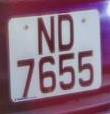5: (57, 49, 78, 97), (76, 47, 96, 95)
6: (36, 52, 59, 101)
7: (16, 53, 38, 103)
D: (55, 11, 77, 58)
N: (35, 11, 57, 61)
